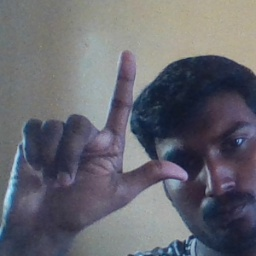L: (8, 49, 188, 231)
